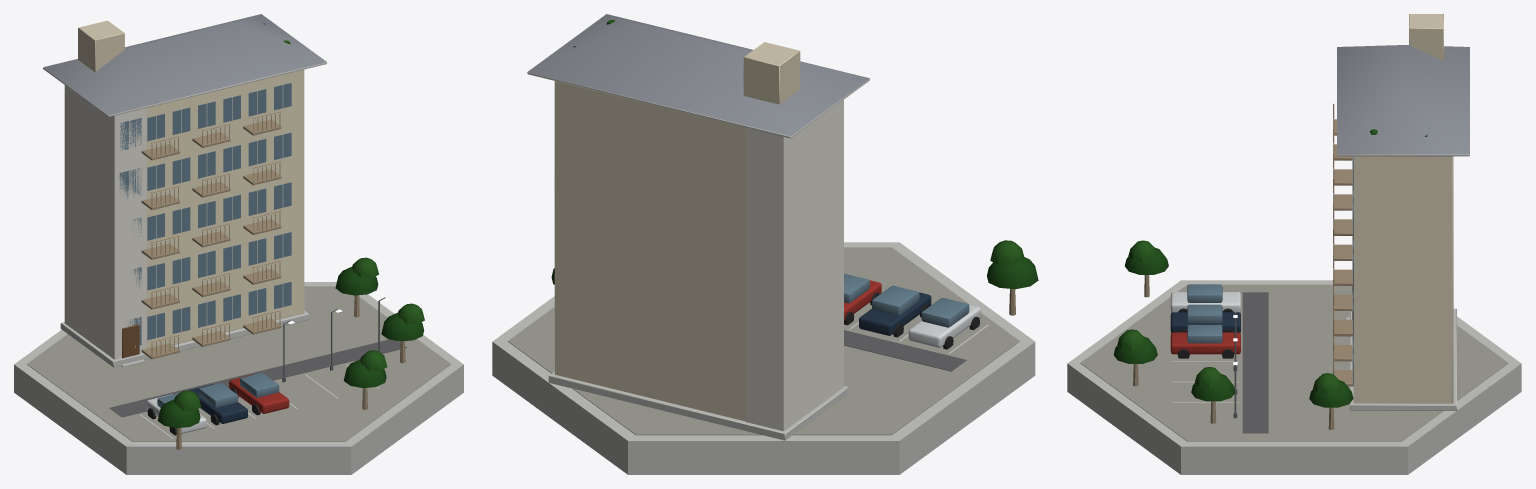
The model's file is apartments_asia.glb.
3 views of the same model, side by side, from view 1: azimuth 30°, elevation 25°; view 2: azimuth 150°, elevation 25°; view 3: azimuth 270°, elevation 25° (orthographic). The views are drawn at different scales.
Parts seen in each view (by area): view 1: pavers, plaster, paint, wall_concrete, glass, roof_slate, wood, leaf, asphalt; view 2: plaster, paint, wall_concrete, pavers, roof_slate, glass, leaf, asphalt; view 3: plaster, pavers, wall_concrete, roof_slate, leaf, wood, asphalt, paint, glass.
Boxes of the visible parts, x1,y1,x2,y2 form: pavers: (27,286,450,441); plaster: (78,20,304,348); paint: (64,85,289,433); wall_concrete: (14,62,463,474); glass: (119,83,291,407); roof_slate: (43,14,326,115); wood: (122,111,405,449); leaf: (157,40,424,428); asphalt: (109,339,406,417); plaster: (554,42,800,421); paint: (745,100,980,431); wall_concrete: (492,72,1035,474); pavers: (508,247,1019,435); roof_slate: (527,14,869,136); glass: (844,273,969,327); leaf: (551,20,1038,289); asphalt: (844,330,966,371); plaster: (1353,14,1453,403); pavers: (1080,284,1508,441); wall_concrete: (1067,154,1521,474); roof_slate: (1337,45,1469,154); leaf: (1113,129,1377,407); wood: (1133,103,1353,429); asphalt: (1242,292,1268,433); paint: (1170,156,1453,354); glass: (1187,156,1353,385).
Bounding box in the file's own units: 21.3 × 20.04 × 24.6.
